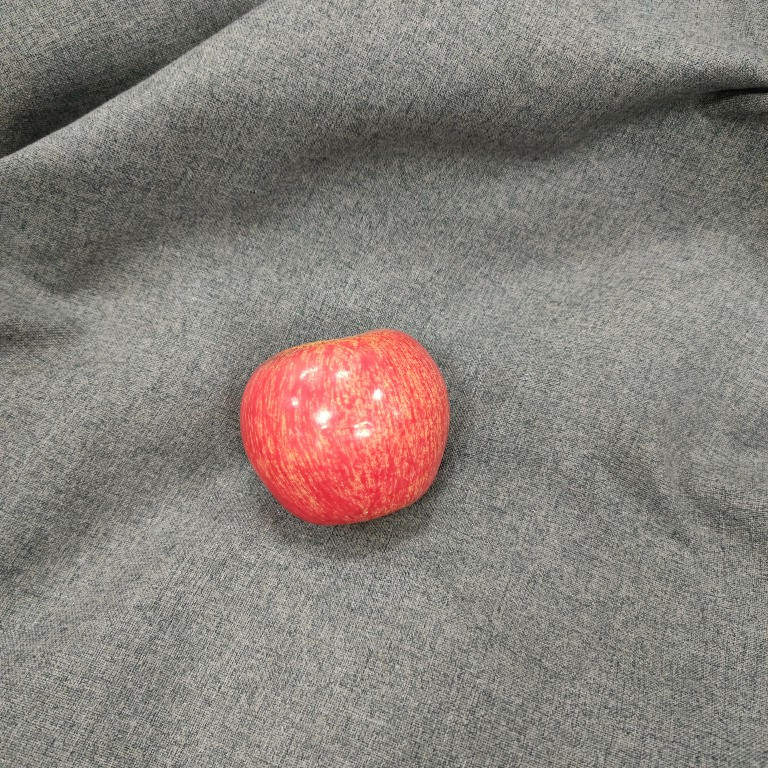fruit_apple: (233, 325, 456, 530)
